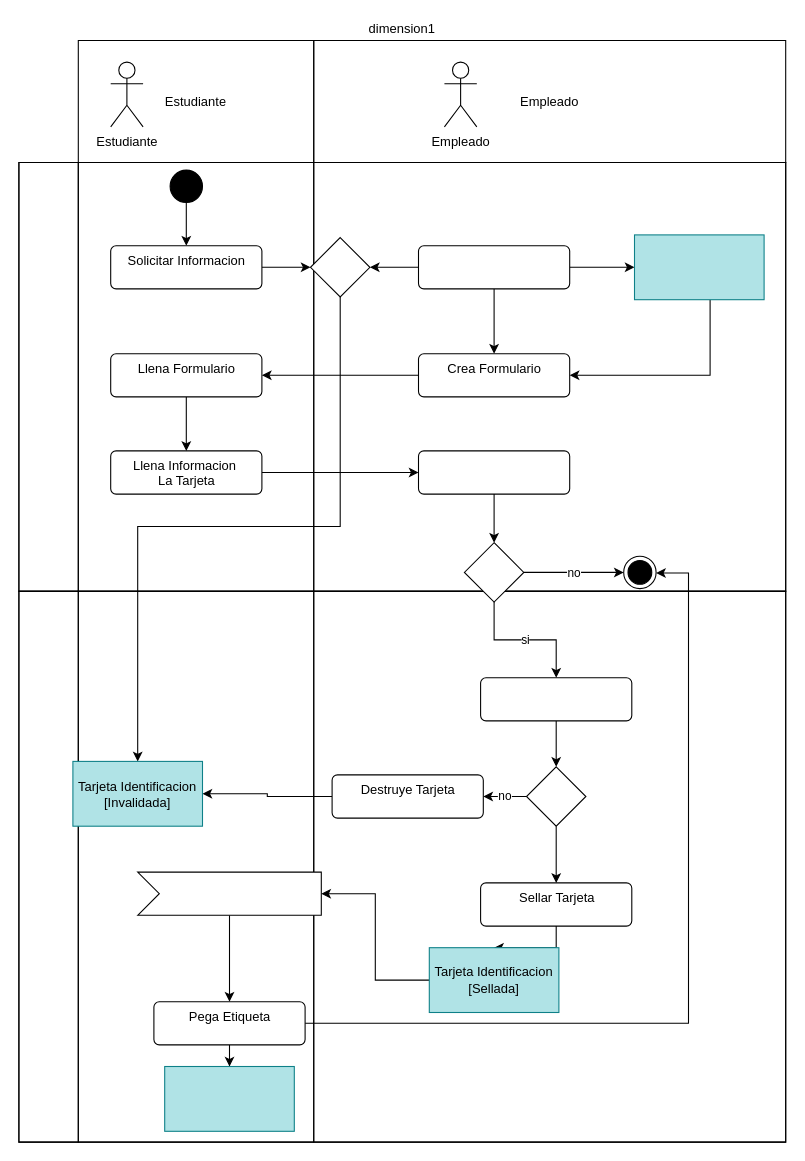
Image size: 805x1161. Some labels were removed from this diagram. The box of each missing label's shape, as (x1, y1, x2, y2) in pixels:
Crea Identificacion: (417, 245, 570, 289)
Recibe correo y etiqueta: (137, 871, 321, 915)
Revisar Documentos: (417, 450, 570, 494)
Revisar Tarjeta: (480, 677, 632, 721)
Tarjeta Identificacion [Vacia]: (633, 234, 764, 300)
Tarjeta Identificacion [Validada]: (164, 1065, 294, 1131)
